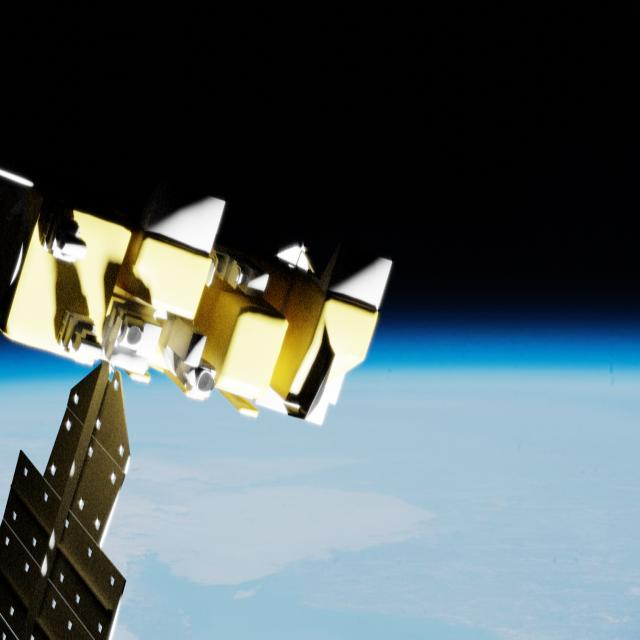satellite: (0, 137, 426, 640)
